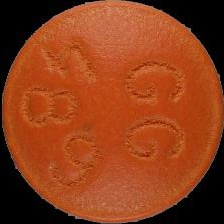49349-598: (0, 0, 224, 224)
